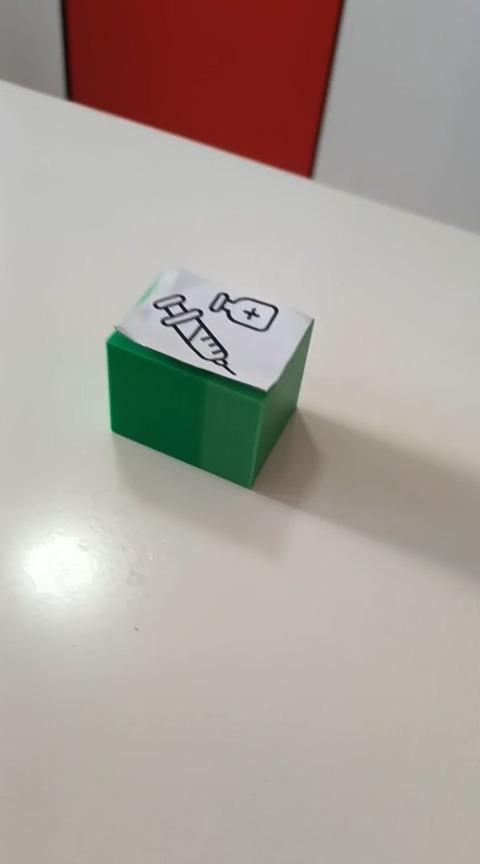antiseptic cream: (105, 264, 315, 489)
